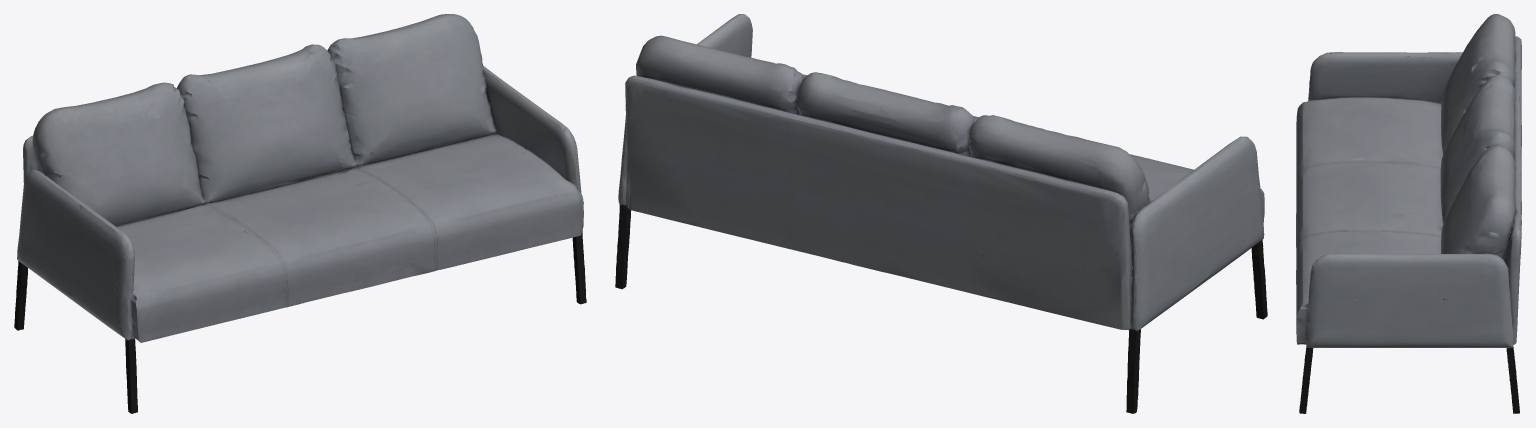
Rendered from ikea-glostad-sofa-knisa-dark-gray-40595942.glb.
The picture shows the model from 3 angles, left to right: view 1: azimuth 30°, elevation 25°; view 2: azimuth 150°, elevation 25°; view 3: azimuth 270°, elevation 25°; orthographic projection. The views are drawn at different scales.
Parts seen in each view (by area): view 1: model; view 2: model; view 3: model.
Boxes of the visible parts, x1,y1,x2,y2 form: model: [14, 14, 586, 413]; model: [615, 14, 1267, 413]; model: [1296, 14, 1521, 413].
Bounding box in the file's own units: 1.81 × 0.8224 × 0.8141.
Materials: 1 (1 with a texture image).
